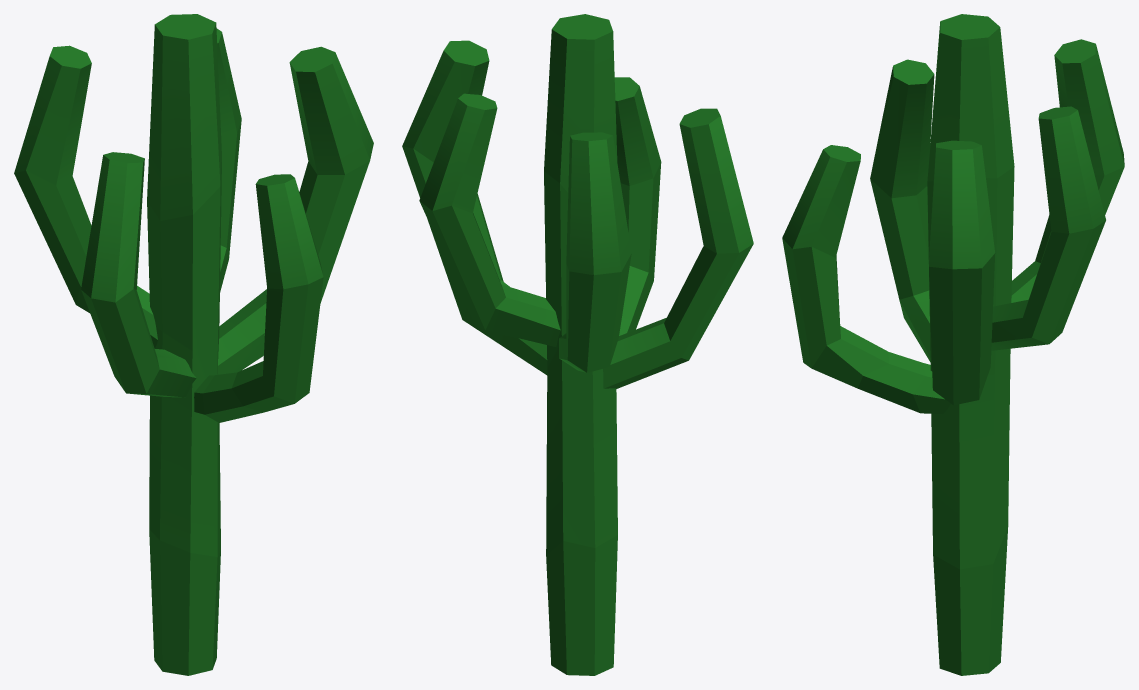
The model's file is Cactus_2_Green.fbx.
3 views of the same model, side by side, from view 1: azimuth 30°, elevation 25°; view 2: azimuth 150°, elevation 25°; view 3: azimuth 270°, elevation 25° (orthographic).
Parts seen in each view (by area): view 1: Cactus_2_Green; view 2: Cactus_2_Green; view 3: Cactus_2_Green.
Part boxes in pixels (box(x1,y1,x2,y2)): Cactus_2_Green: box(14, 14, 373, 675); Cactus_2_Green: box(402, 14, 753, 675); Cactus_2_Green: box(782, 14, 1124, 675).
Size of the model in its own units: 134 by 260 by 127.
